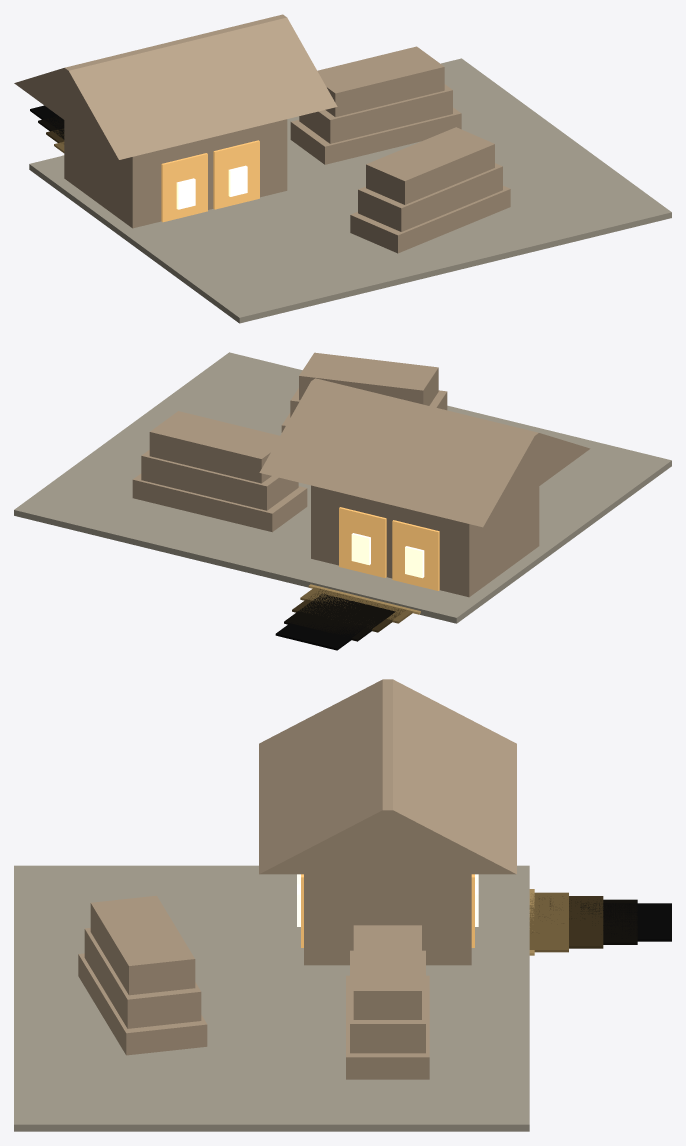
The model's file is plc_forestry.glb.
3 views of the same model, one above another, from view 1: azimuth 30°, elevation 25°; view 2: azimuth 150°, elevation 25°; view 3: azimuth 270°, elevation 25° (orthographic). The views are drawn at different scales.
Visible parts, largest first — view 1: plc_forestry; view 2: plc_forestry; view 3: plc_forestry.
Part boxes in pixels (x1,y1,x2,y2): plc_forestry: (14,14,671,323); plc_forestry: (14,352,671,650); plc_forestry: (14,679,671,1131).
Size of the model in its own units: 1.69 by 0.5445 by 1.74.
